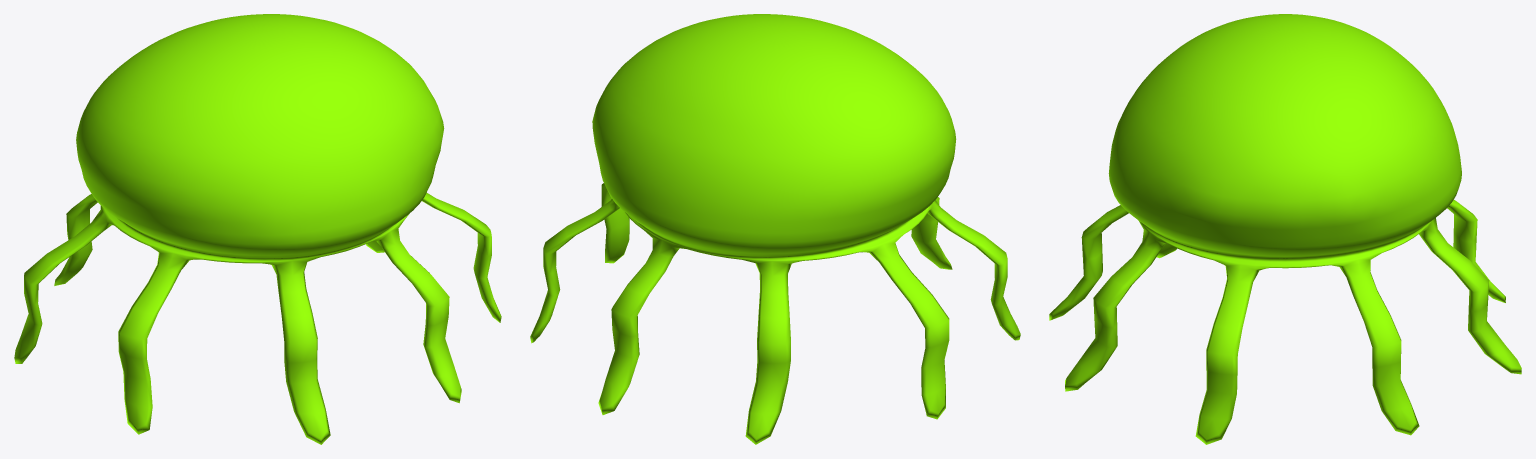
Rendered from kurage3.FBX.
3 renders of one model, left to right at view 1: azimuth 30°, elevation 25°; view 2: azimuth 150°, elevation 25°; view 3: azimuth 270°, elevation 25°, orthographic.
Parts seen in each view (by area): view 1: Sphere001; view 2: Sphere001; view 3: Sphere001.
Boxes of the visible parts, x1=… form: Sphere001: x1=14, y1=14, x2=501, y2=444; Sphere001: x1=530, y1=14, x2=1020, y2=444; Sphere001: x1=1049, y1=14, x2=1521, y2=444.
Size of the model in its own units: 244 by 246 by 177.
Materials: 1 (1 with a texture image).
